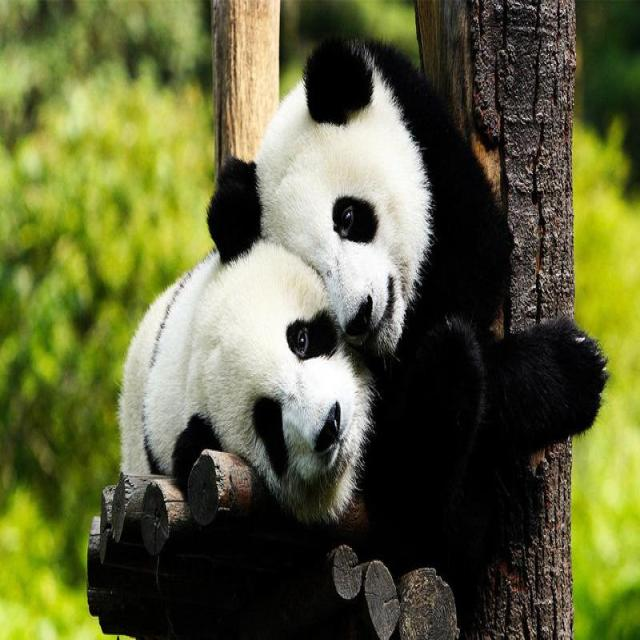panda: (78, 2, 601, 640)
